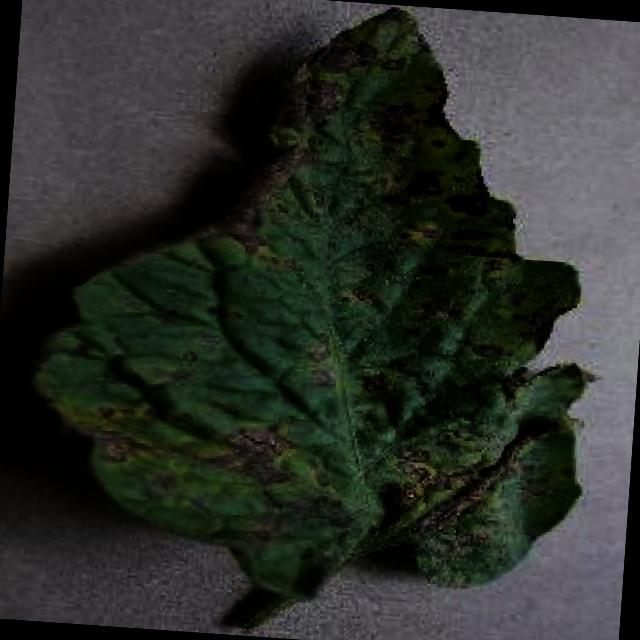Tomato Early blight leaf: (26, 0, 614, 616)
